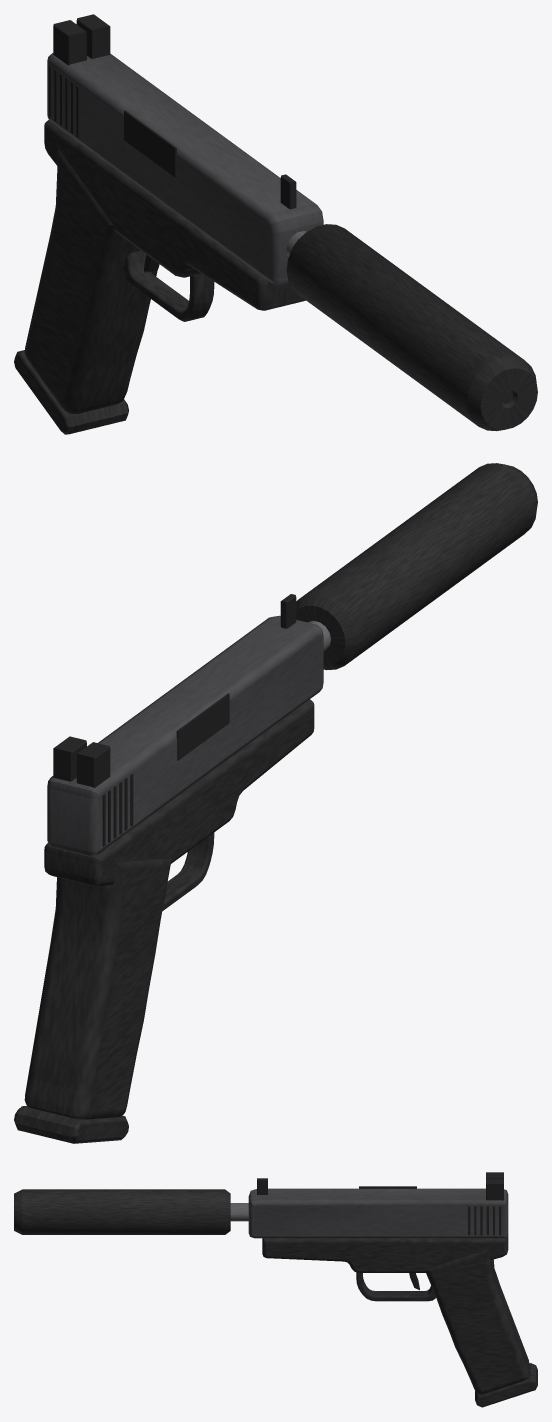
The model's file is pistol.glb.
The picture shows the model from 3 angles, top to bottom: view 1: azimuth 30°, elevation 25°; view 2: azimuth 150°, elevation 25°; view 3: azimuth 270°, elevation 25°; orthographic projection. The views are drawn at different scales.
Parts seen in each view (by area): view 1: model; view 2: model; view 3: model.
Boxes of the visible parts, left/top/right/bottom form: model: left=14, top=14, right=537, bottom=434; model: left=14, top=463, right=537, bottom=1143; model: left=14, top=1172, right=537, bottom=1407.
Bounding box in the file's own units: 0.033 × 0.1775 × 0.3796.
4 materials, 3 textured.
